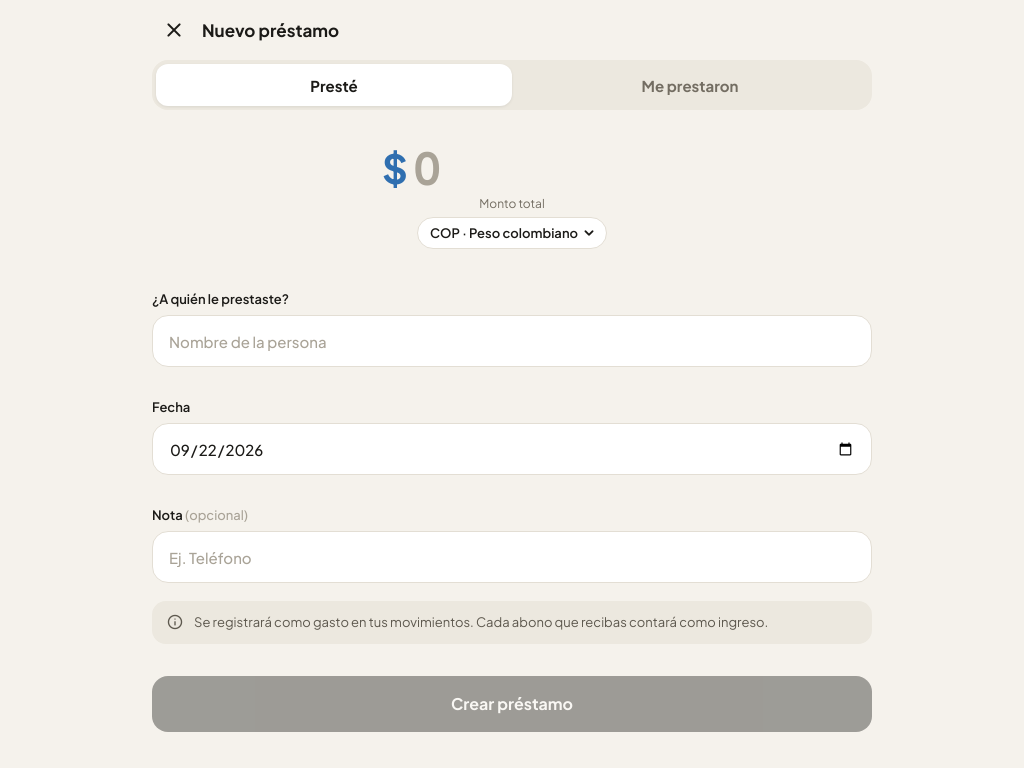
Nuevo préstamo › no se puede crear sin importe ni persona
Expected: the button "Crear préstamo" is disabled, [152, 676, 872, 732]
Type "250000" into the field named "Importe" at (527, 167), box [412, 138, 642, 196]
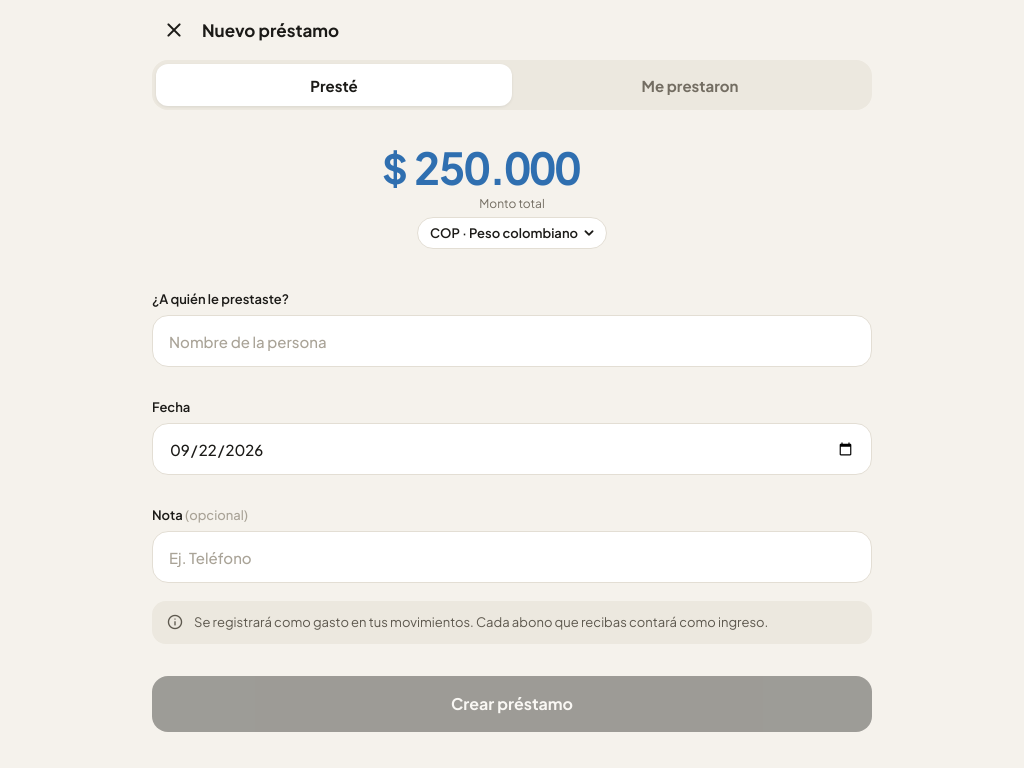
Expected: the button "Crear préstamo" is disabled, [152, 676, 872, 732]
Type "Rosa" into the field labelled "¿A quién le prestaste?" at (512, 341), box [152, 315, 872, 367]
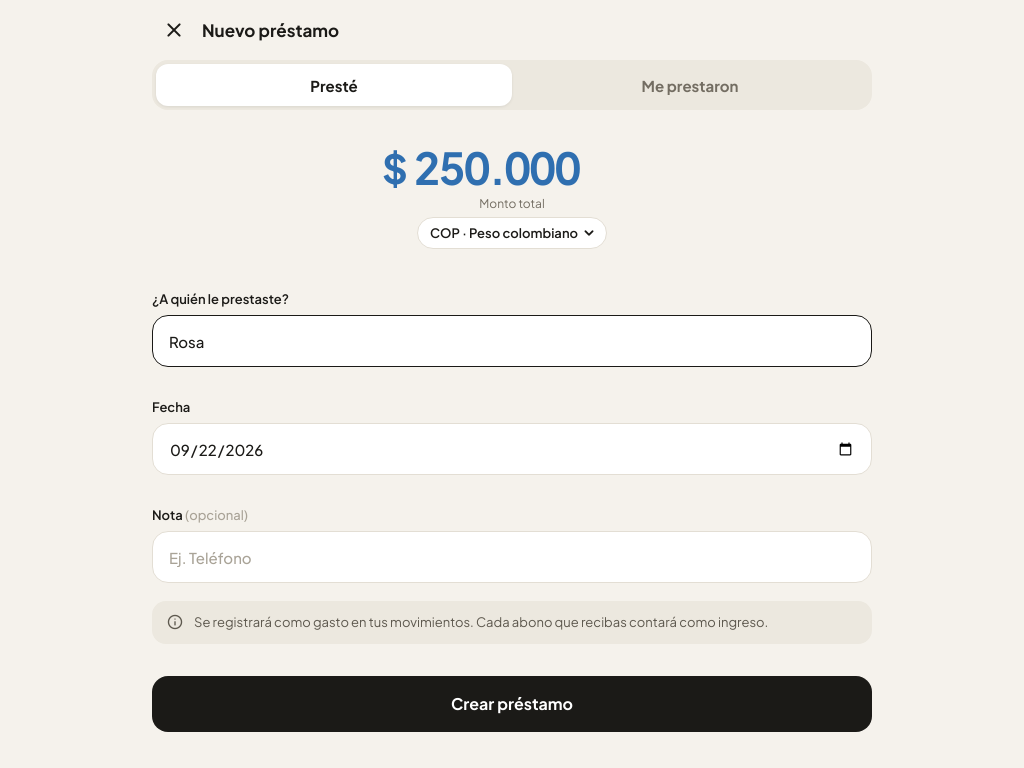
Now the button "Crear préstamo" is enabled, box [152, 676, 872, 732]
